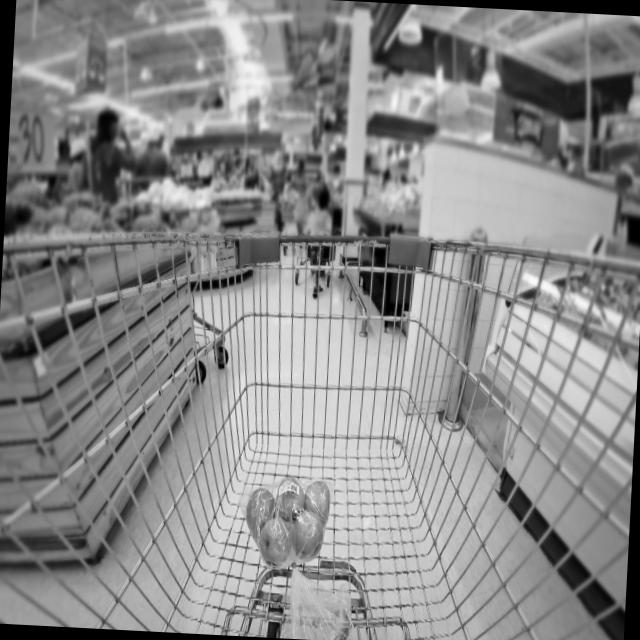apple: (242, 474, 335, 569)
